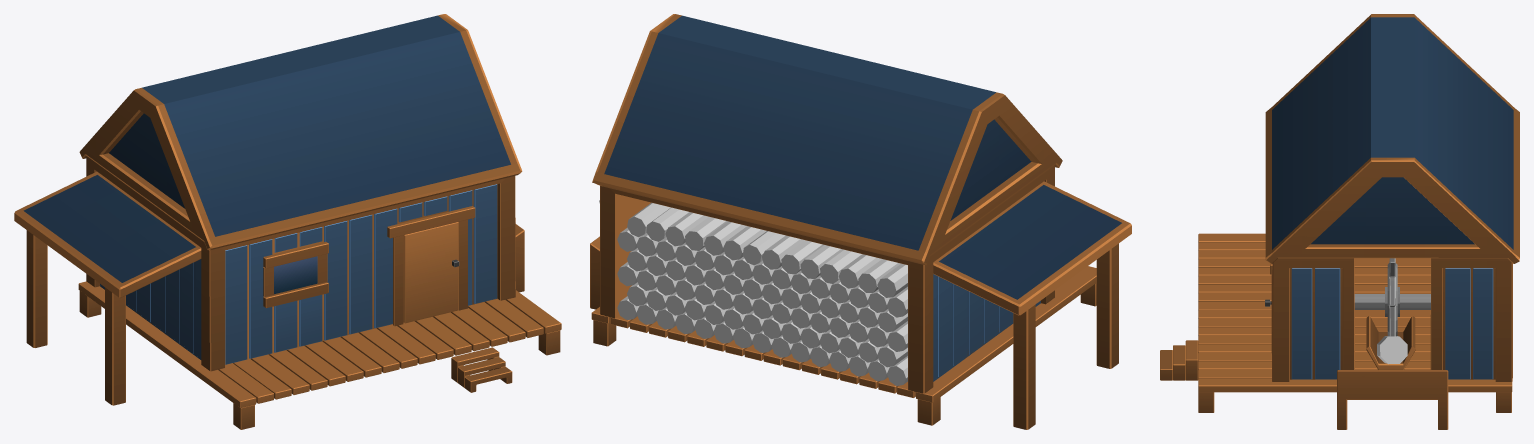
File: Lumbermill.fbx
3 views of the same model, side by side, from view 1: azimuth 30°, elevation 25°; view 2: azimuth 150°, elevation 25°; view 3: azimuth 270°, elevation 25° (orthographic). The views are drawn at different scales.
Visible parts, largest first — view 1: Lumber_Mill; view 2: Lumber_Mill; view 3: Lumber_Mill.
Boxes of the visible parts, box(x1,y1,x2,y2) form: Lumber_Mill: box(14, 14, 561, 429); Lumber_Mill: box(590, 14, 1131, 429); Lumber_Mill: box(1160, 14, 1519, 429).
Bounding box in the file's own units: 1344 × 744 × 970.
